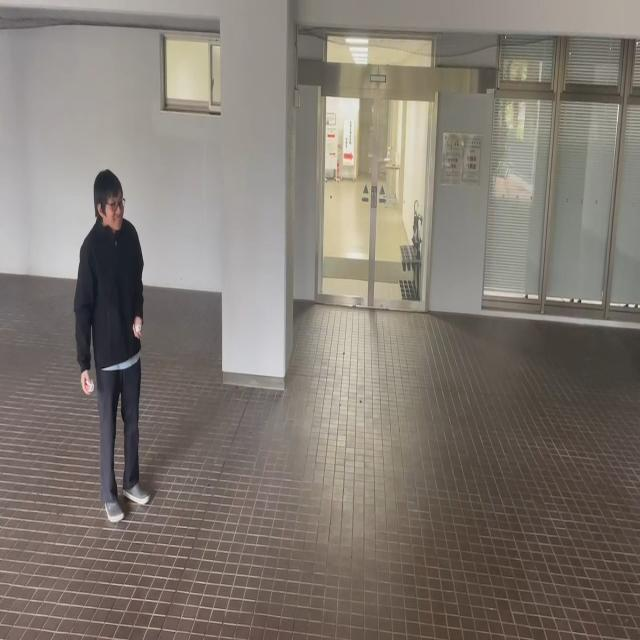paper: (86, 375, 93, 396), (135, 322, 141, 336)
